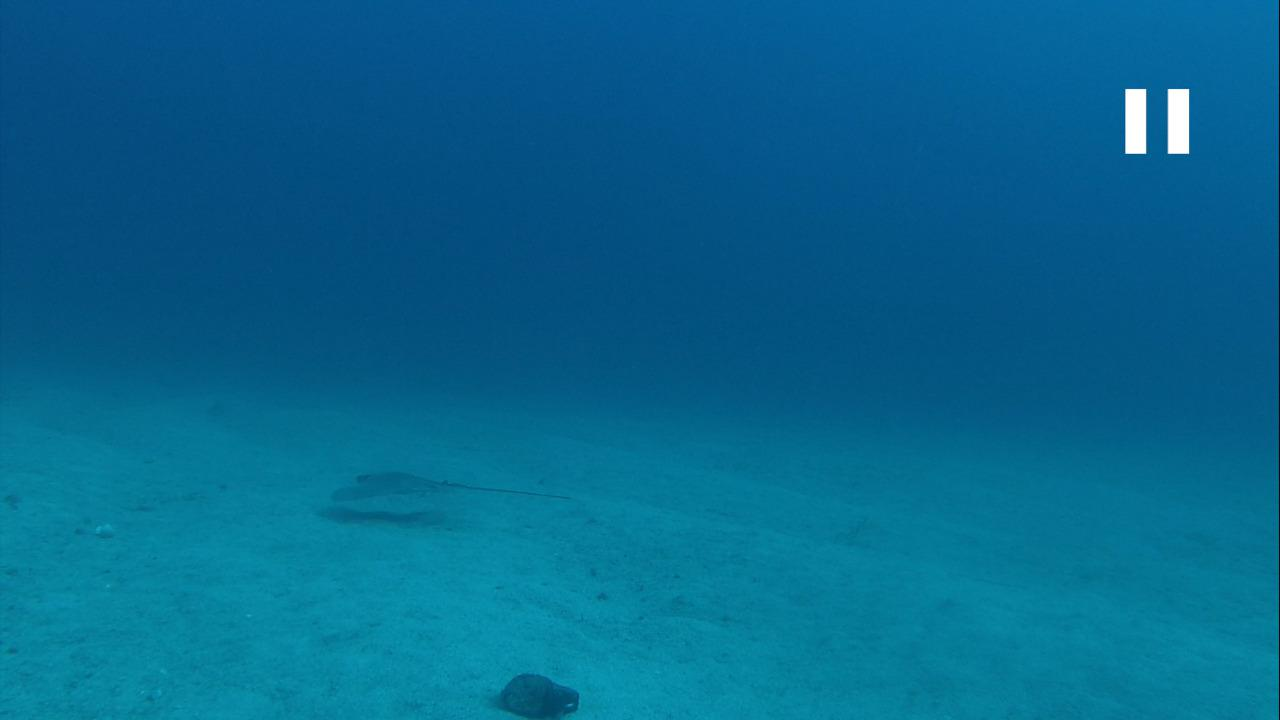myliobatis: (325, 460, 572, 516)
